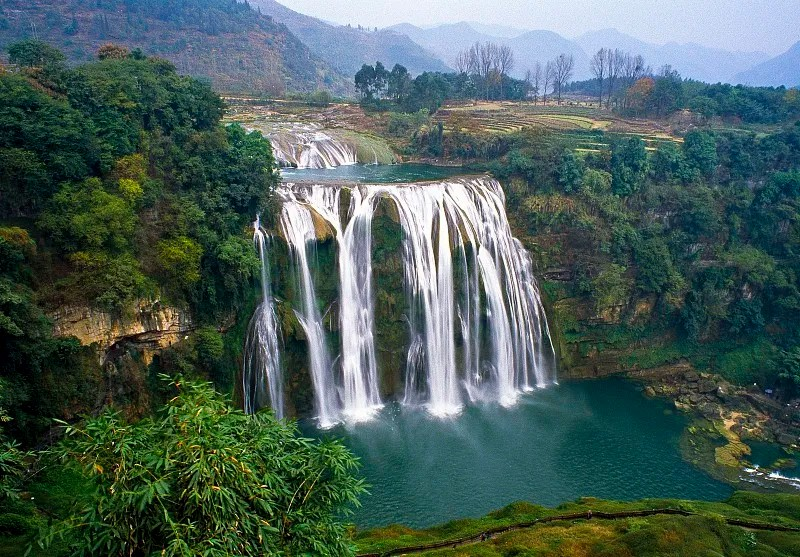Huangguoshu: (253, 133, 559, 428)
